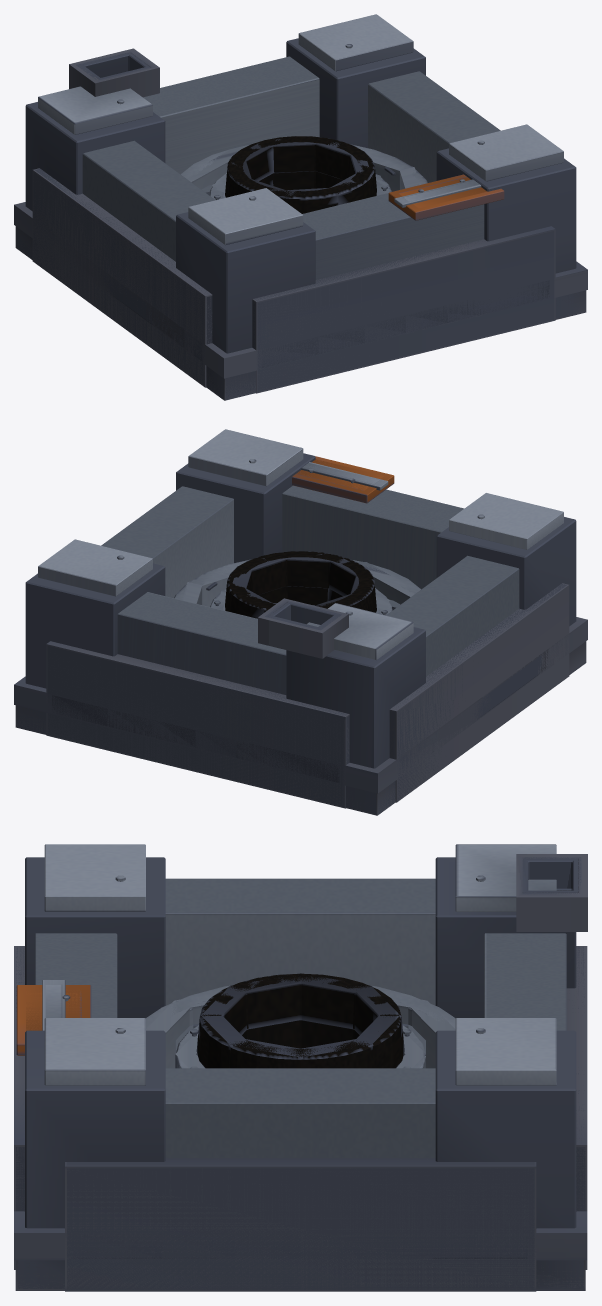
The model's file is place_works_massline_core.glb.
The picture shows the model from 3 angles, top to bottom: view 1: azimuth 30°, elevation 25°; view 2: azimuth 150°, elevation 25°; view 3: azimuth 270°, elevation 25°; orthographic projection. The views are drawn at different scales.
Visible parts, largest first — view 1: LOD0_massline_core, LOD1_massline_core, LOD1_massline_core_lamp, LOD0_massline_core_lamp; view 2: LOD0_massline_core, LOD1_massline_core, LOD1_massline_core_lamp, LOD0_massline_core_lamp; view 3: LOD0_massline_core, LOD1_massline_core, LOD1_massline_core_lamp, LOD0_massline_core_lamp.
Boxes of the visible parts, x1,y1,x2,y2 form: LOD0_massline_core: [16, 14, 584, 398]; LOD1_massline_core: [14, 137, 587, 400]; LOD1_massline_core_lamp: [69, 48, 159, 97]; LOD0_massline_core_lamp: [76, 51, 149, 79]; LOD0_massline_core: [17, 429, 576, 813]; LOD1_massline_core: [14, 456, 587, 815]; LOD1_massline_core_lamp: [258, 598, 348, 658]; LOD0_massline_core_lamp: [265, 601, 341, 630]; LOD0_massline_core: [16, 844, 585, 1289]; LOD1_massline_core: [14, 946, 587, 1291]; LOD1_massline_core_lamp: [516, 854, 587, 931]; LOD0_massline_core_lamp: [522, 857, 581, 894].
Bounding box in the file's own units: 2.08 × 0.928 × 2.08.
Materials: 2 (2 with a texture image).
